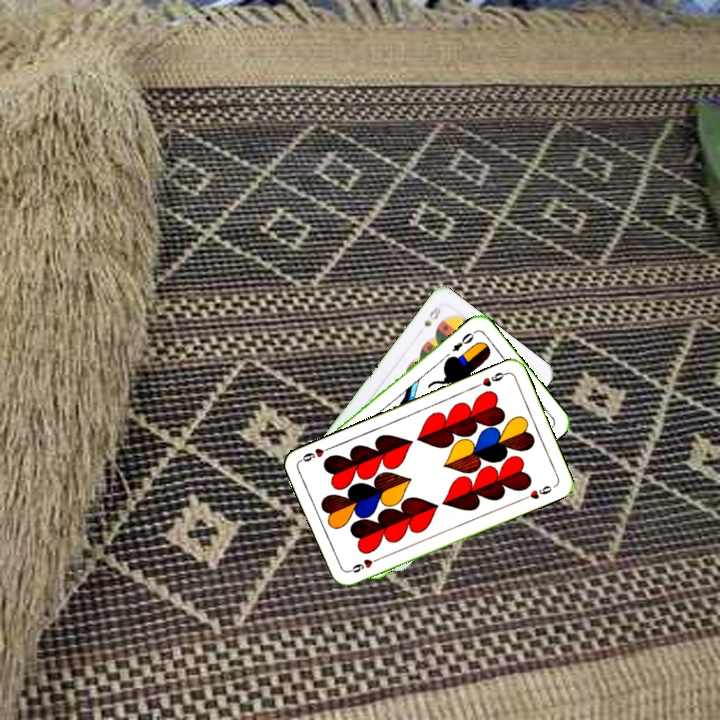EO: (448, 327, 479, 354)
H9: (471, 368, 510, 390), (345, 553, 383, 575)
S8: (420, 302, 445, 329)
